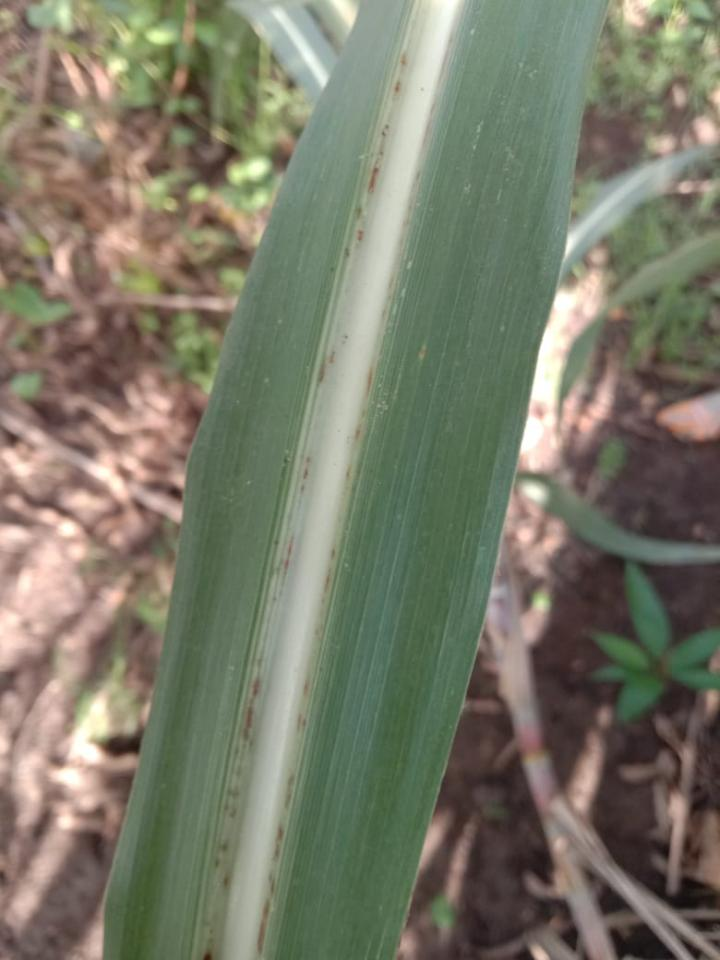Rust: (376, 33, 460, 330), (321, 43, 420, 282), (197, 650, 272, 959), (290, 545, 344, 738), (252, 765, 302, 958), (336, 358, 379, 490), (303, 330, 361, 394), (264, 526, 302, 618), (285, 451, 317, 507), (409, 342, 434, 368)
